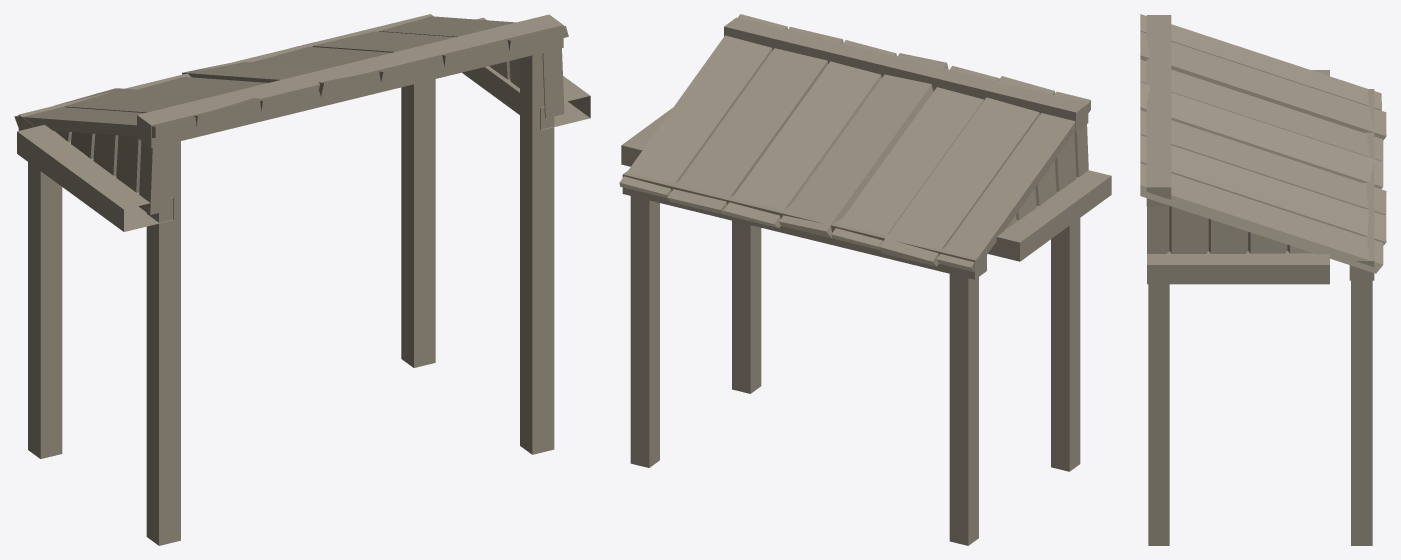
The model's file is icemantle_wood_shelter.glb.
3 renders of one model, left to right at view 1: azimuth 30°, elevation 25°; view 2: azimuth 150°, elevation 25°; view 3: azimuth 270°, elevation 25°, orthographic. The views are drawn at different scales.
Visible parts, largest first — view 1: village/MI_WoodTrim, village/MI_WoodTrim_Wear; view 2: village/MI_WoodTrim_Wear, village/MI_WoodTrim; view 3: village/MI_WoodTrim_Wear, village/MI_WoodTrim.
Boxes of the visible parts, box(x1,y1,x2,y2) form: village/MI_WoodTrim: box(17, 14, 590, 545); village/MI_WoodTrim_Wear: box(14, 16, 564, 214); village/MI_WoodTrim_Wear: box(619, 14, 1090, 272); village/MI_WoodTrim: box(621, 17, 1111, 545); village/MI_WoodTrim_Wear: box(1140, 14, 1386, 273); village/MI_WoodTrim: box(1146, 15, 1374, 545).
Bounding box in the file's own units: 3 × 2.63 × 1.6.
